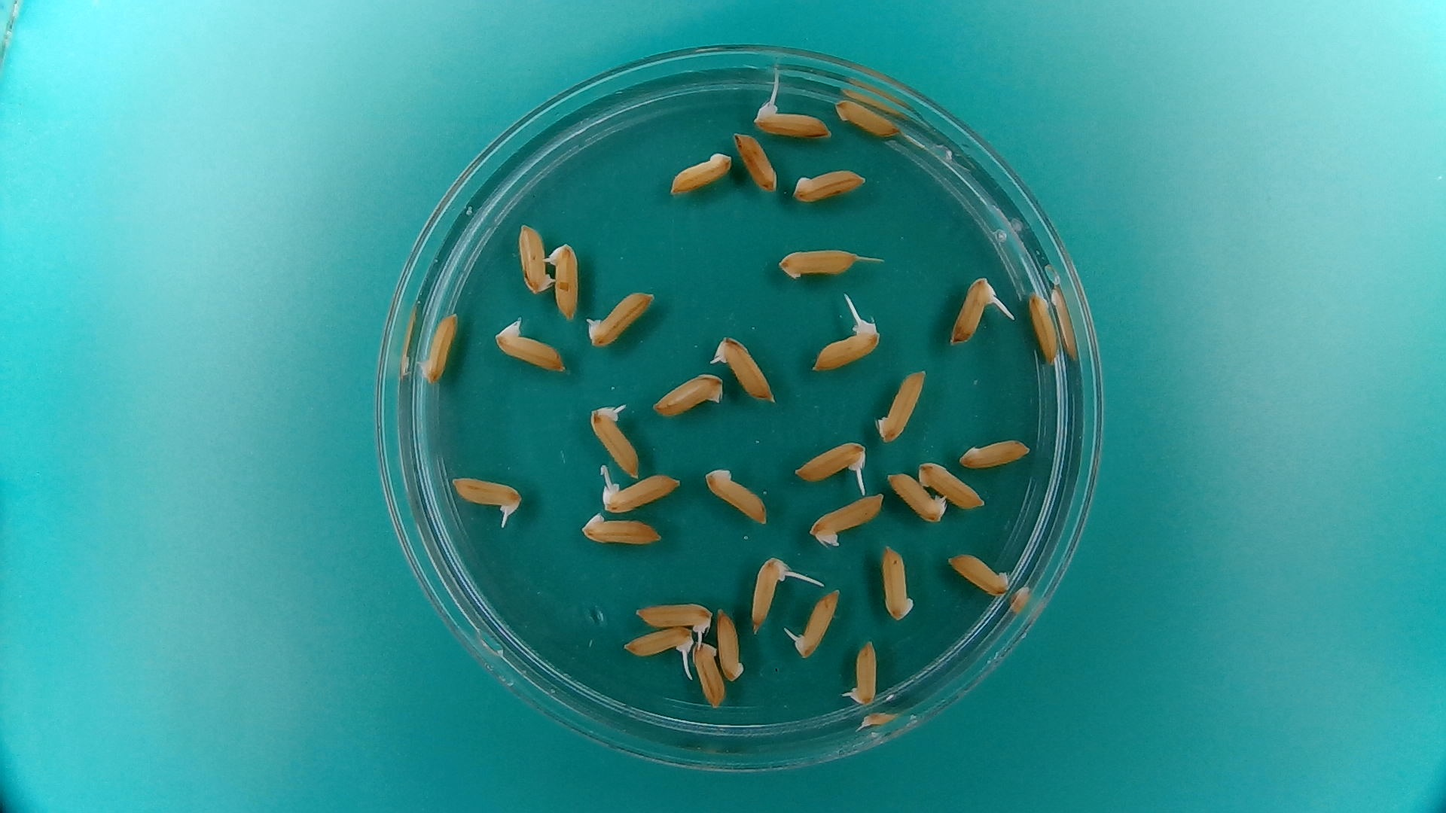no: (873, 364, 930, 444), (807, 491, 887, 547), (701, 463, 771, 525), (917, 456, 990, 512), (773, 242, 862, 283), (414, 309, 462, 385), (496, 322, 569, 370), (886, 470, 948, 526), (730, 127, 780, 195), (664, 148, 734, 196), (652, 373, 725, 418), (790, 163, 868, 205), (946, 550, 1014, 598), (575, 514, 668, 547), (880, 540, 916, 624), (516, 219, 554, 298), (1026, 287, 1063, 367), (835, 97, 905, 139), (956, 434, 1033, 470), (691, 642, 727, 712), (717, 605, 746, 685)
yes: (706, 335, 778, 409), (775, 589, 840, 667), (586, 399, 642, 478), (586, 288, 656, 349), (810, 318, 880, 373), (947, 273, 999, 347), (792, 437, 869, 485), (597, 473, 685, 513), (747, 556, 791, 631), (638, 598, 719, 637), (447, 473, 522, 515), (545, 237, 581, 322), (840, 636, 880, 707), (751, 104, 830, 139), (624, 626, 694, 663)
